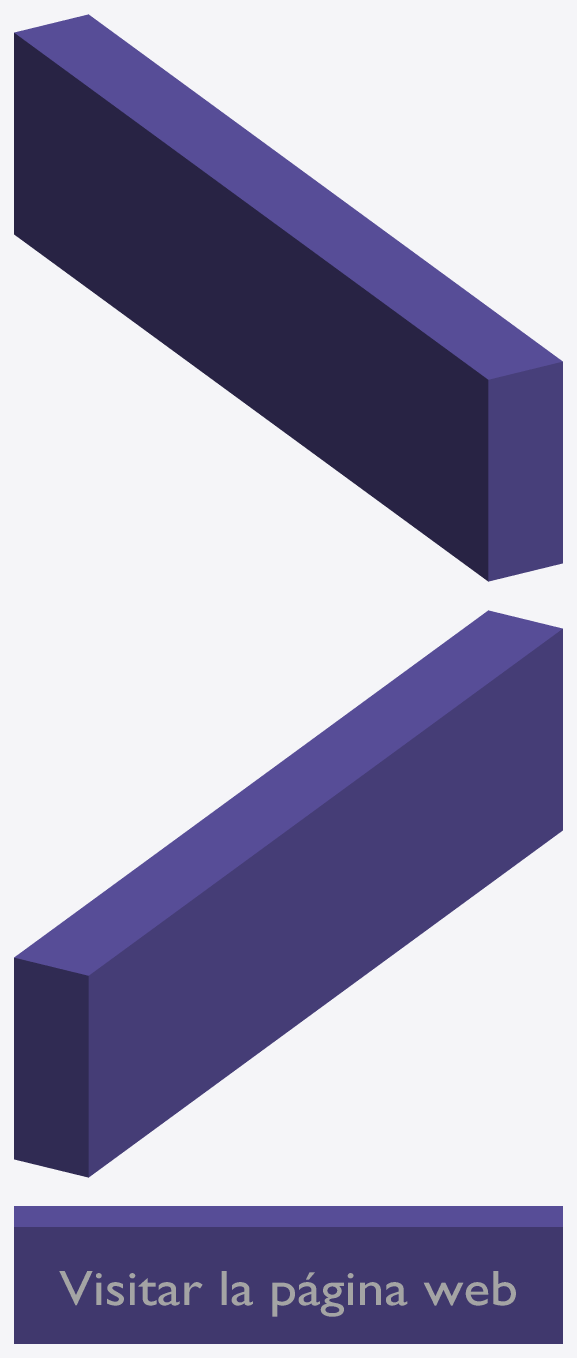
File: web_button2.glb
3 renders of one model, top to bottom at view 1: azimuth 30°, elevation 25°; view 2: azimuth 150°, elevation 25°; view 3: azimuth 270°, elevation 25°, orthographic. The views are drawn at different scales.
Parts seen in each view (by area): view 1: Cube; view 2: Cube; view 3: Cube, Text.001.
Part boxes in pixels (left/top/right/bottom): Cube: left=14, top=14, right=562, bottom=581; Cube: left=14, top=610, right=562, bottom=1177; Cube: left=14, top=1206, right=562, bottom=1343; Text.001: left=59, top=1271, right=515, bottom=1316.
Bounding box in the file's own units: 0.7071 × 1.53 × 6.53.
